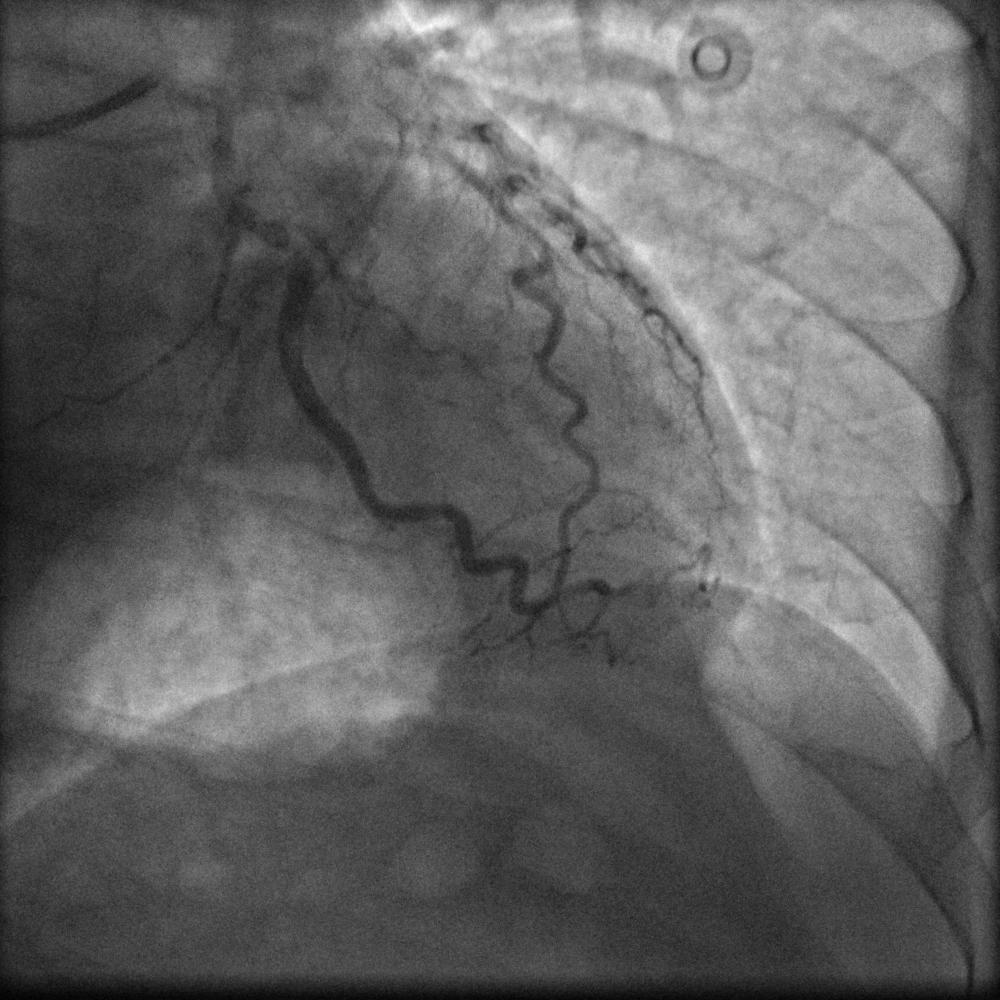Stenosis: (280, 227, 305, 268)
